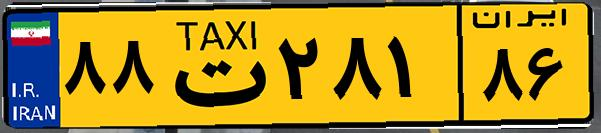1: (385, 28, 445, 110)
2: (270, 28, 330, 110)
6: (525, 38, 570, 115)
8: (330, 28, 385, 110), (57, 26, 110, 100), (475, 38, 525, 113), (110, 28, 158, 98)
ت: (158, 12, 270, 120)
